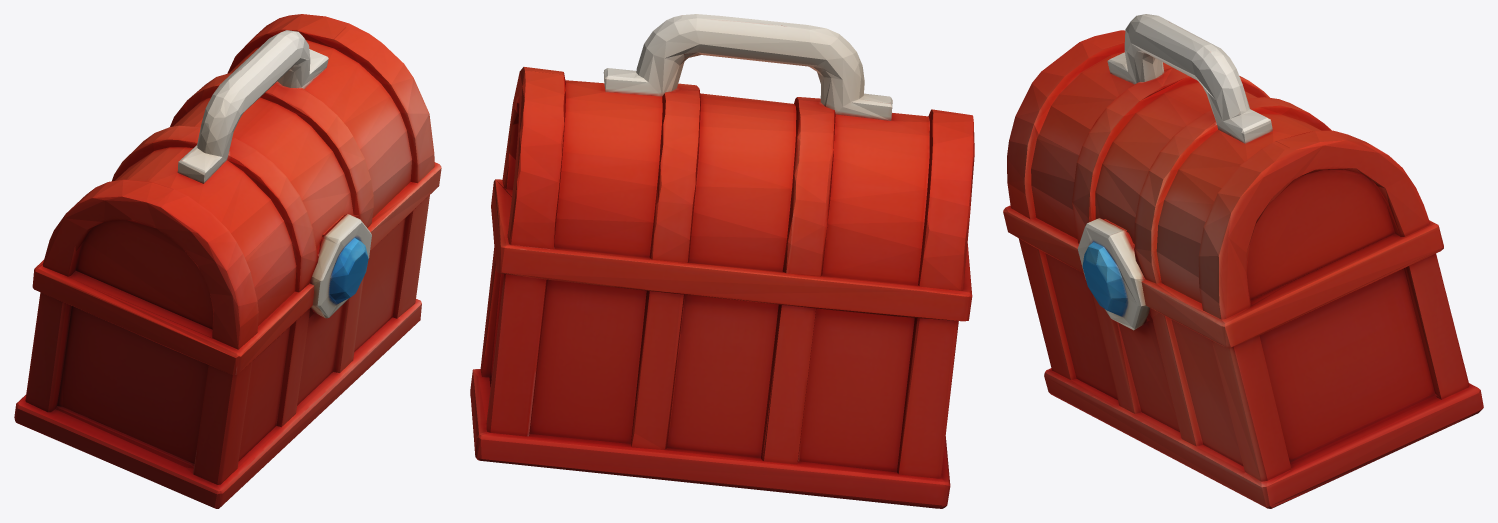
The model's file is parcel.glb.
The picture shows the model from 3 angles, left to right: view 1: azimuth 30°, elevation 25°; view 2: azimuth 150°, elevation 25°; view 3: azimuth 270°, elevation 25°; orthographic projection. The views are drawn at different scales.
Visible parts, largest first — view 1: geometry_0; view 2: geometry_0; view 3: geometry_0.
Boxes of the visible parts, bbox=[...] form: geometry_0: bbox=[14, 14, 441, 508]; geometry_0: bbox=[470, 14, 974, 508]; geometry_0: bbox=[1003, 14, 1483, 508].
Size of the model in its own units: 0.9364 by 0.8489 by 0.8772.
1 material, 1 textured.
